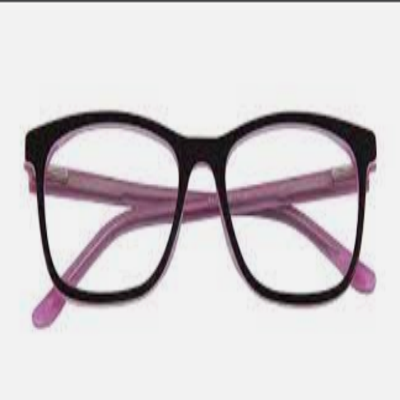glasses: (17, 106, 385, 334)
